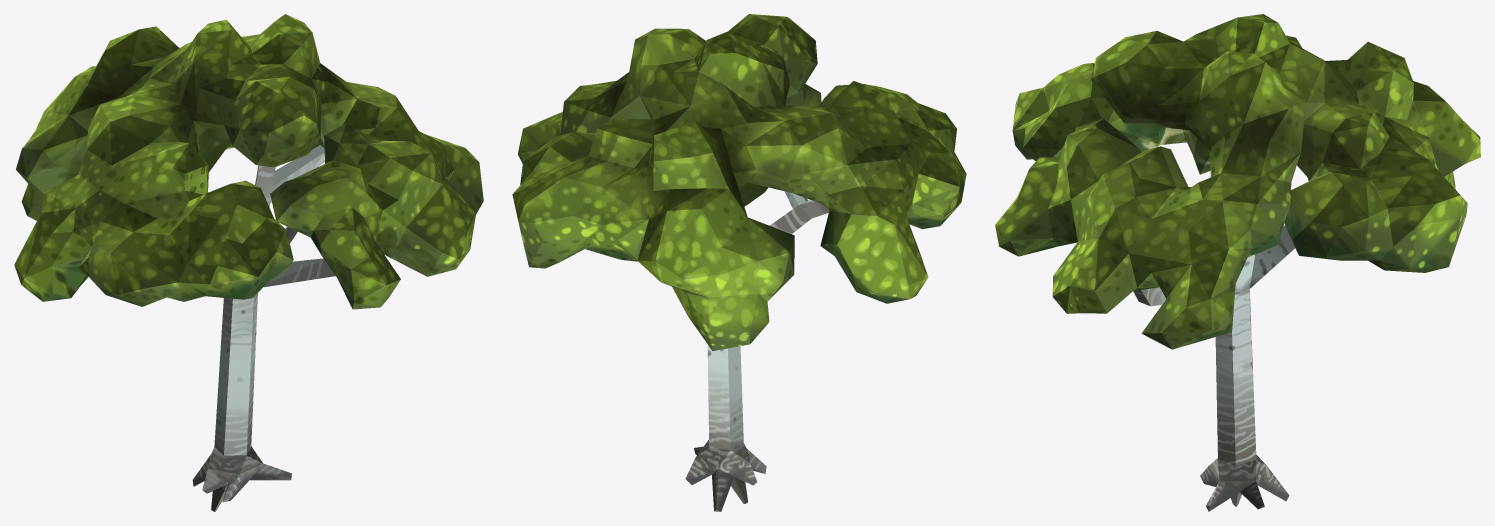
Rendered from tree.obj.
The picture shows the model from 3 angles, left to right: view 1: azimuth 30°, elevation 25°; view 2: azimuth 150°, elevation 25°; view 3: azimuth 270°, elevation 25°; orthographic projection. The views are drawn at different scales.
Parts seen in each view (by area): view 1: obj1; view 2: obj1; view 3: obj1.
Boxes of the visible parts, x1,y1,x2,y2 form: obj1: [14, 14, 483, 511]; obj1: [512, 14, 966, 511]; obj1: [995, 14, 1480, 511].
Size of the model in its own units: 635 by 671 by 593.
